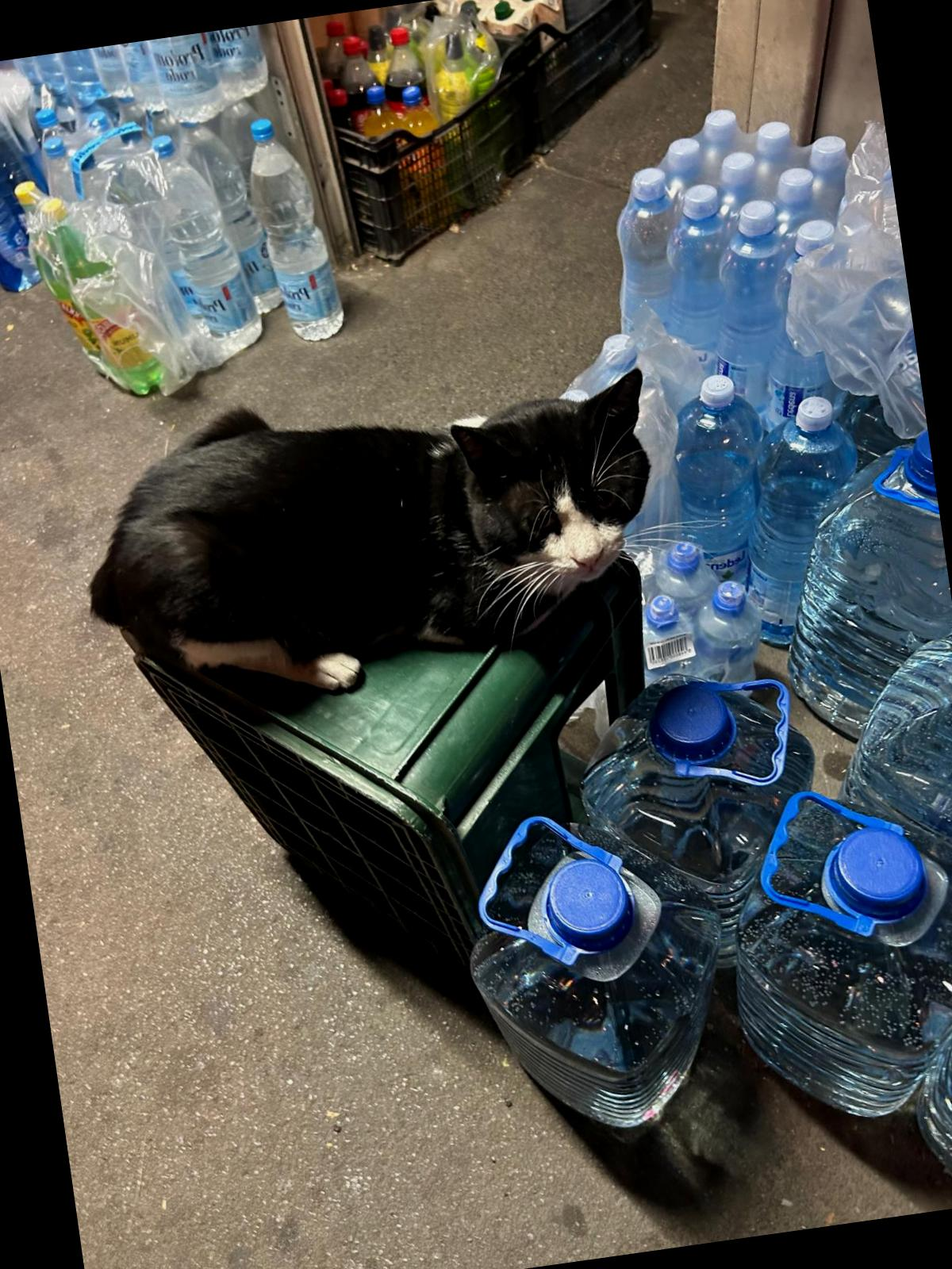macka: (60, 349, 681, 725)
